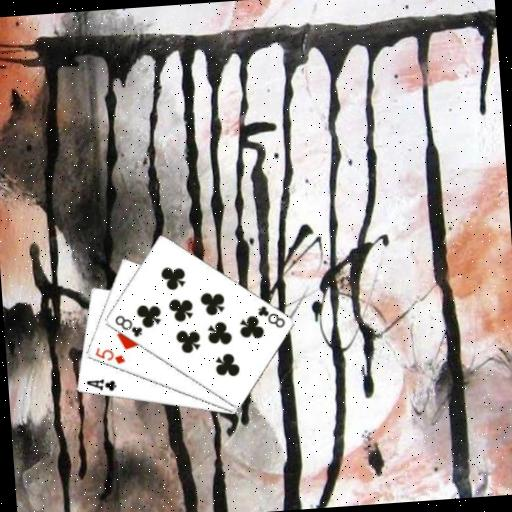5D: (92, 343, 127, 367)
8C: (111, 310, 144, 340), (254, 301, 287, 331)
AC: (83, 375, 118, 395)
